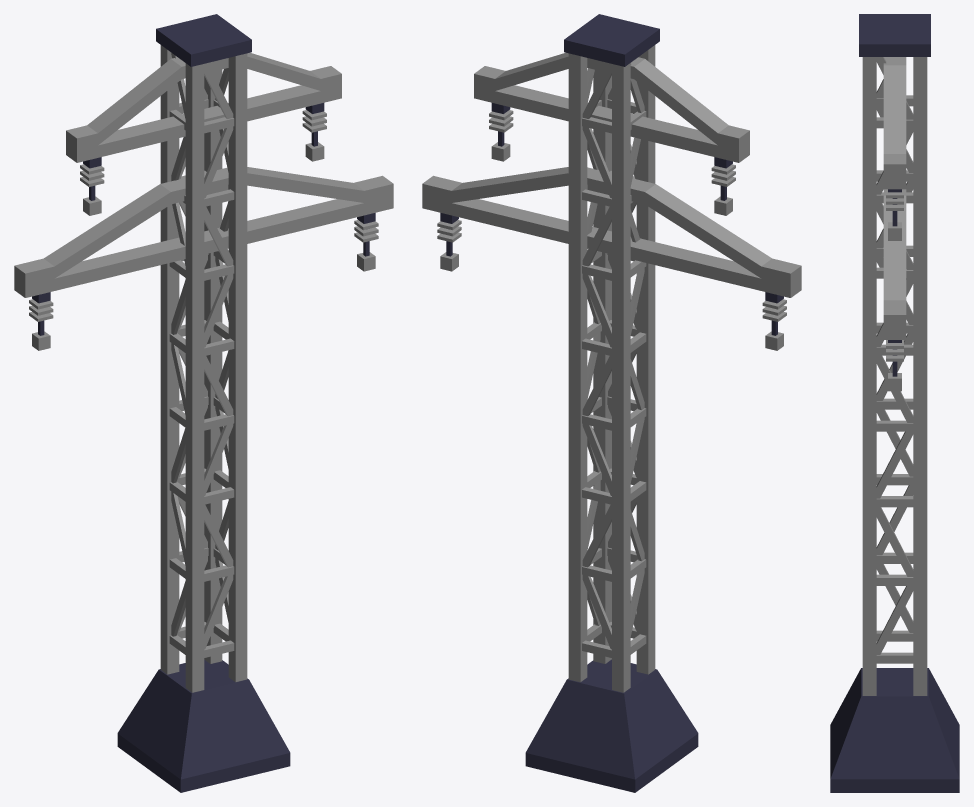
The model's file is PowerLineLarge_01.fbx.
3 renders of one model, left to right at view 1: azimuth 30°, elevation 25°; view 2: azimuth 150°, elevation 25°; view 3: azimuth 270°, elevation 25°, orthographic.
Visible parts, largest first — view 1: SA_Bld_PowerLineLarge_01; view 2: SA_Bld_PowerLineLarge_01; view 3: SA_Bld_PowerLineLarge_01.
Part boxes in pixels (x1=…): SA_Bld_PowerLineLarge_01: x1=14, y1=14, x2=393, y2=792; SA_Bld_PowerLineLarge_01: x1=422, y1=14, x2=801, y2=792; SA_Bld_PowerLineLarge_01: x1=830, y1=14, x2=959, y2=792.
Bounding box in the file's own units: 2193 × 4107 × 653.
